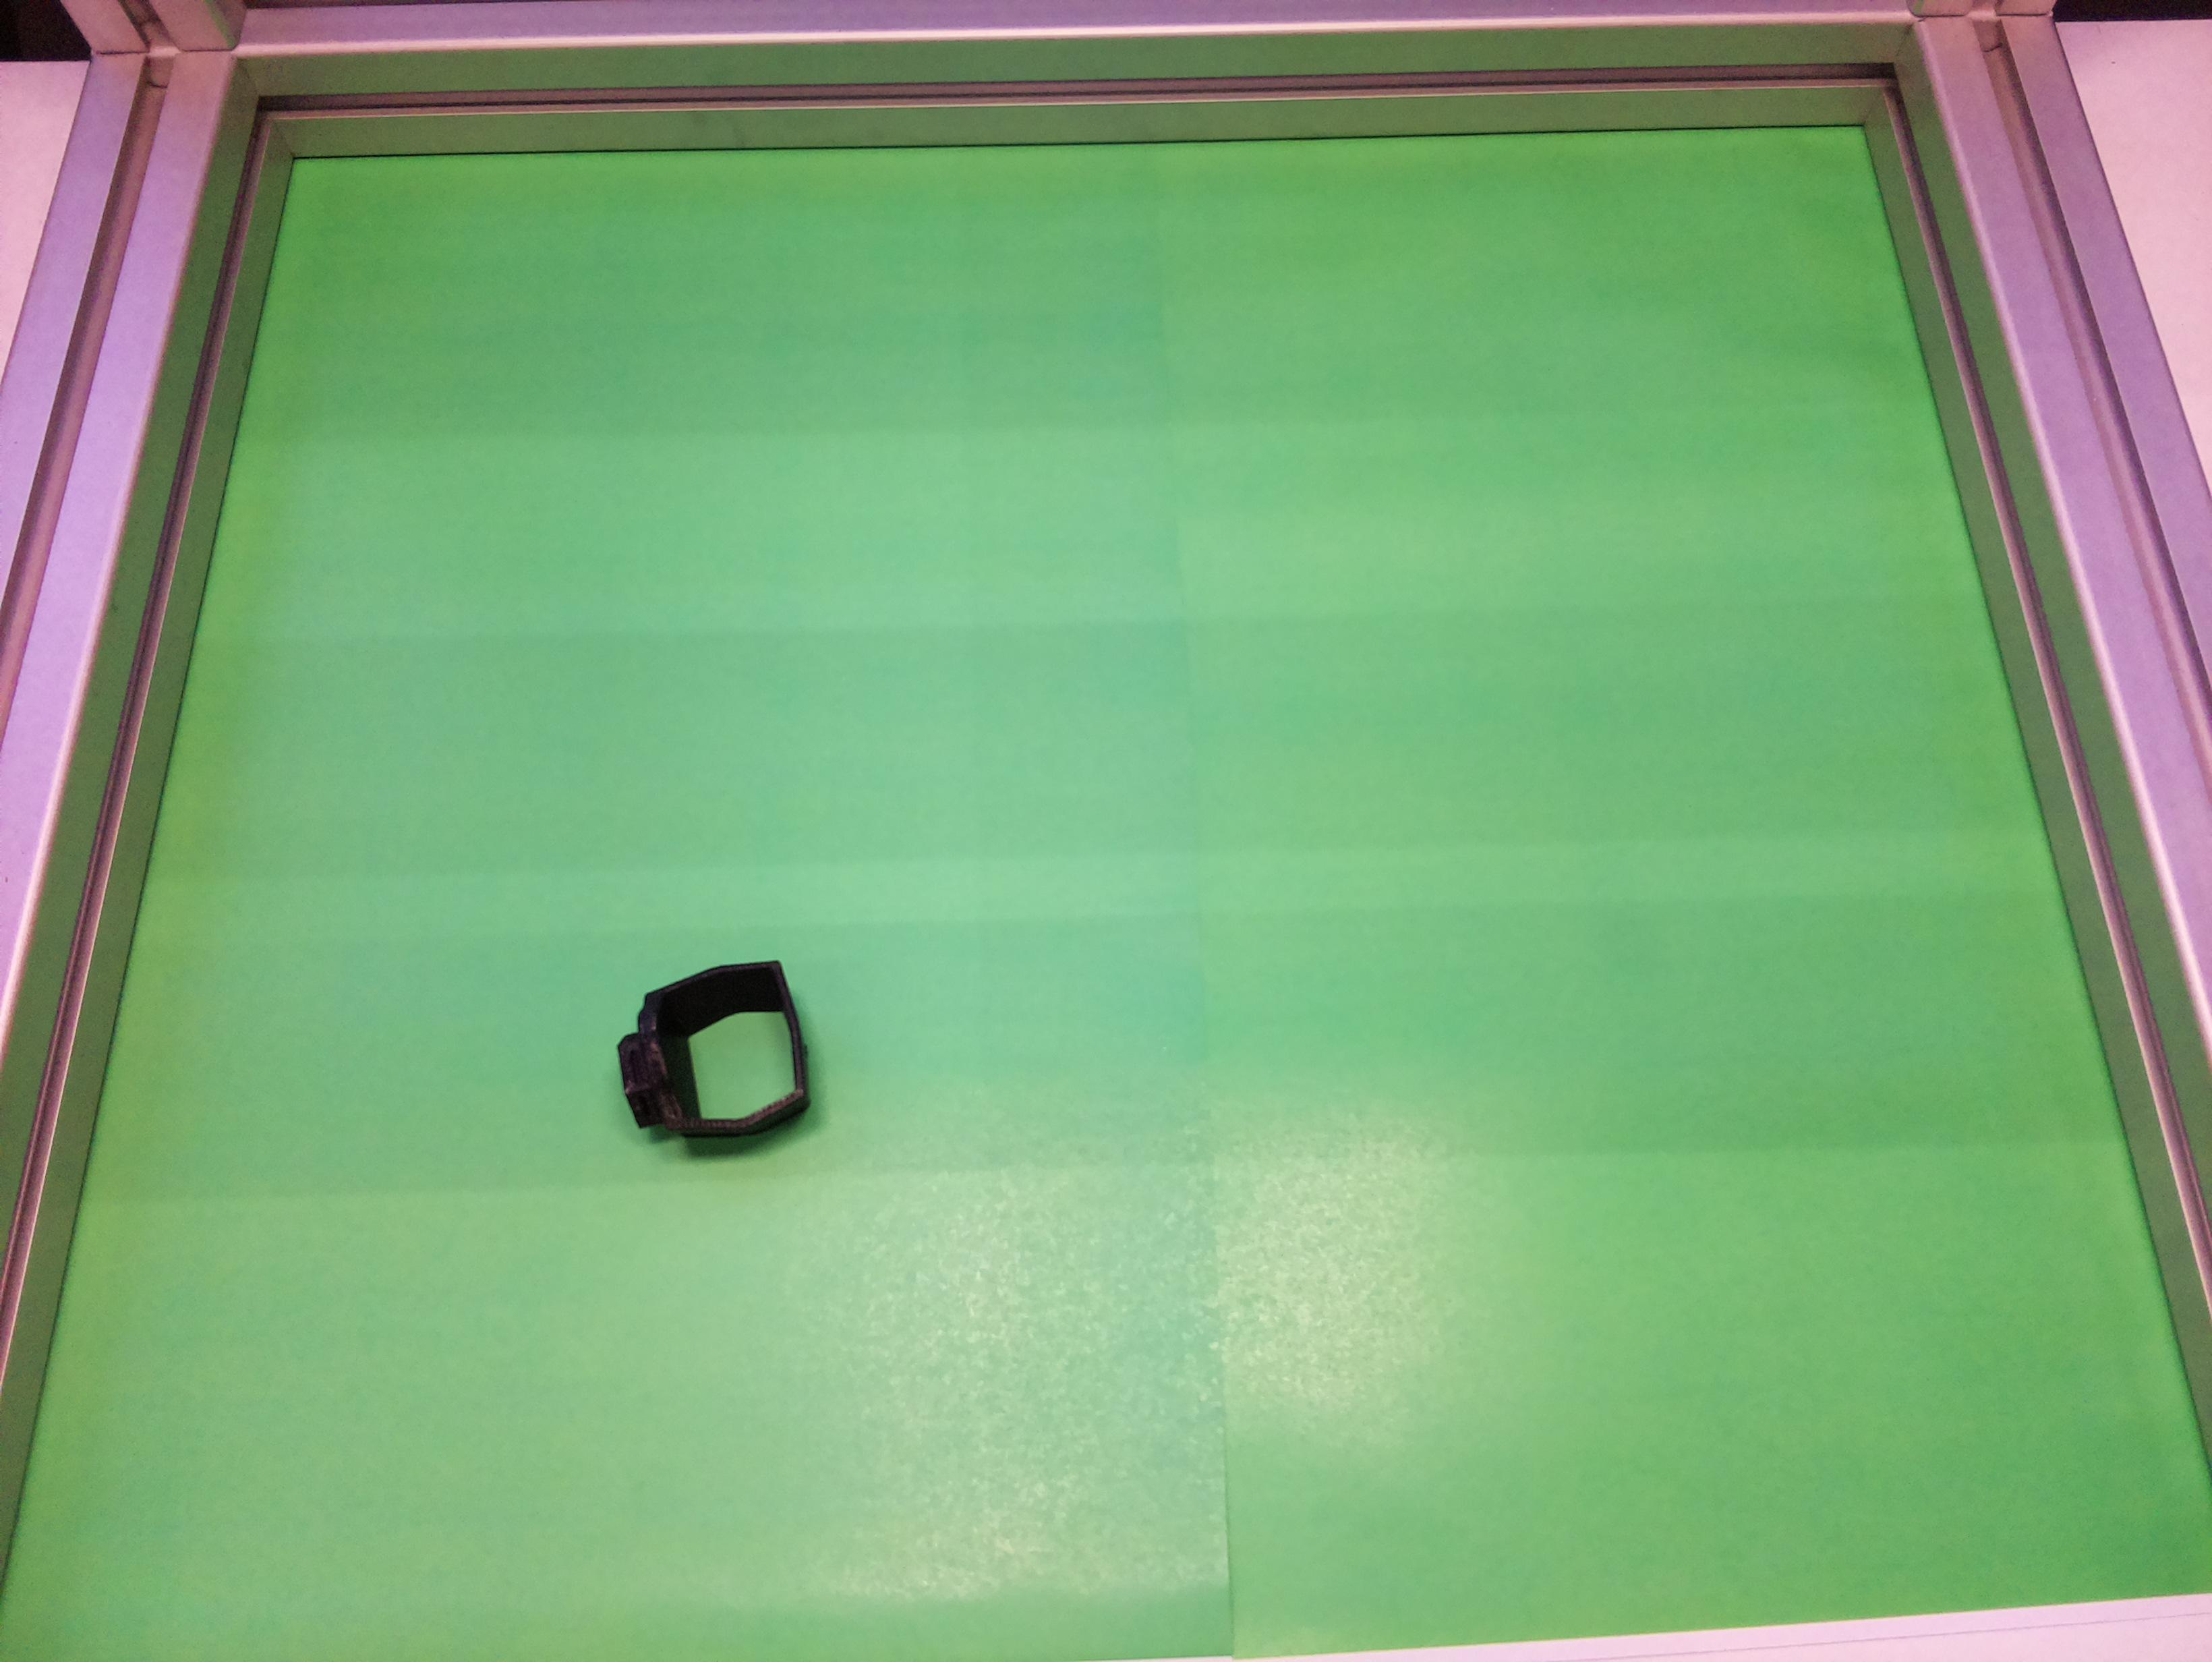scissor_holder: (597, 946, 836, 1182)
